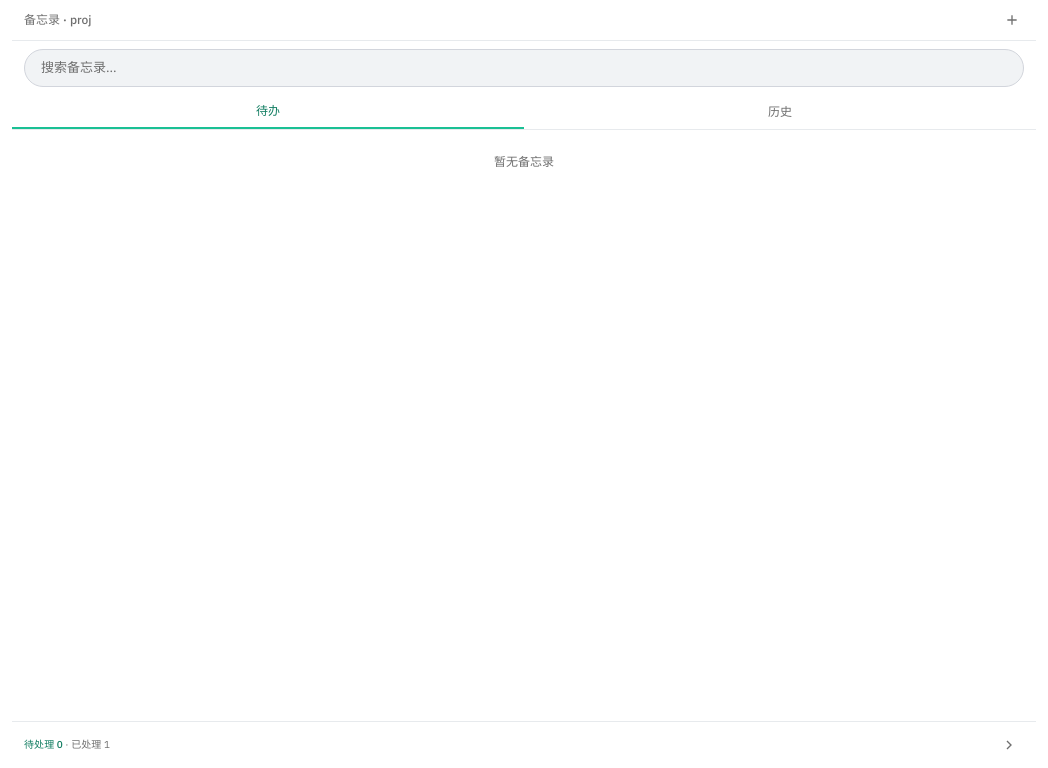
Scenario: MemoPanel · 历史分组与折叠 › 展开分组后条目可见，再点折叠后隐藏
The image size is (1048, 768).
Step 1. Click the button "历史" → (780, 112), box [524,94,1036,128]
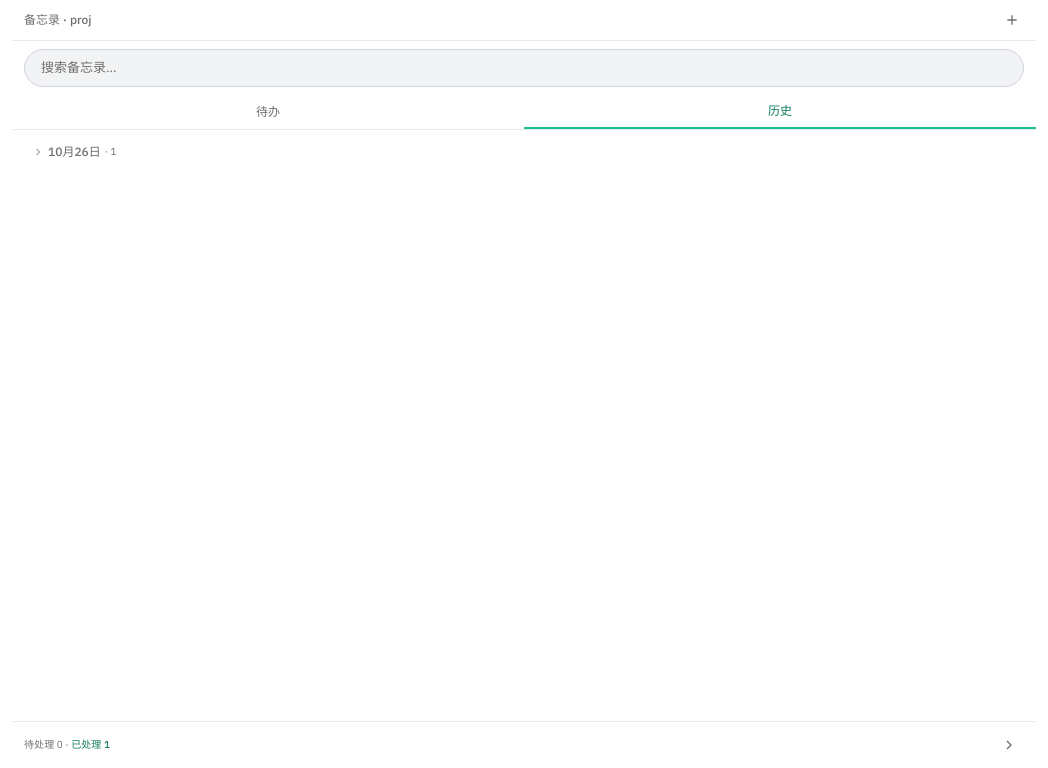
Check: the text "历史项P" is not shown
Step 2. Click the button named "展开 " → (74, 151), box [28,138,1020,166]
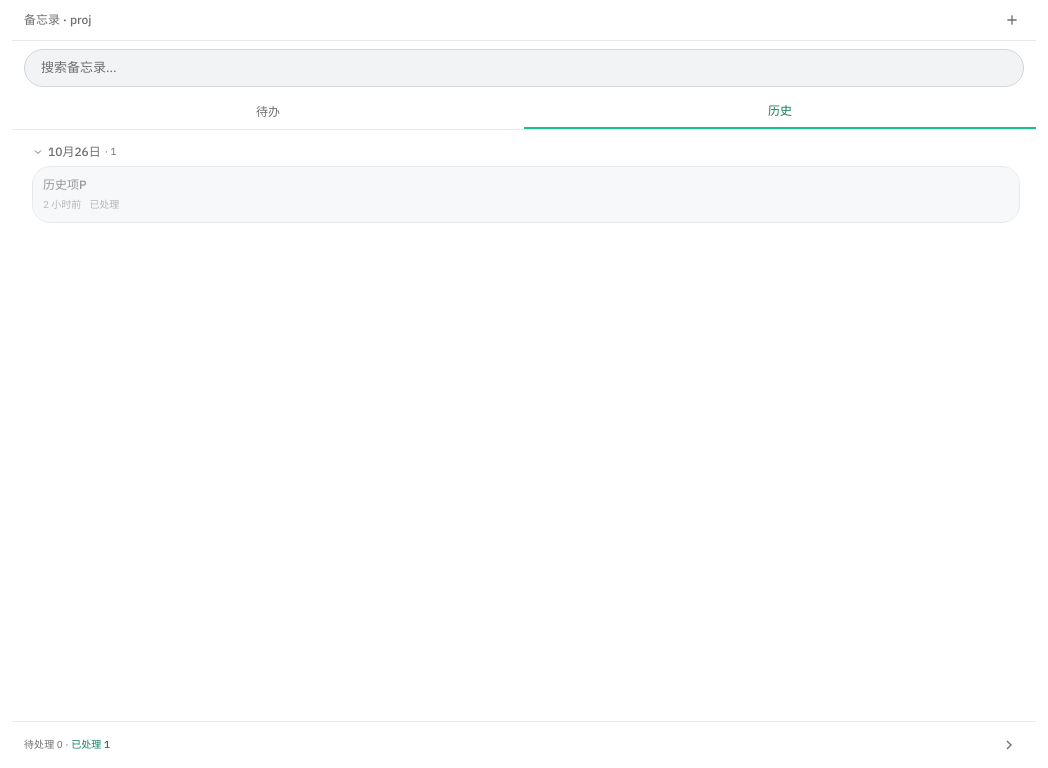
Check: the text "历史项P" is shown, box [43,176,86,192]
Step 3. Click the button named "折叠 " → (74, 151), box [28,138,1020,166]
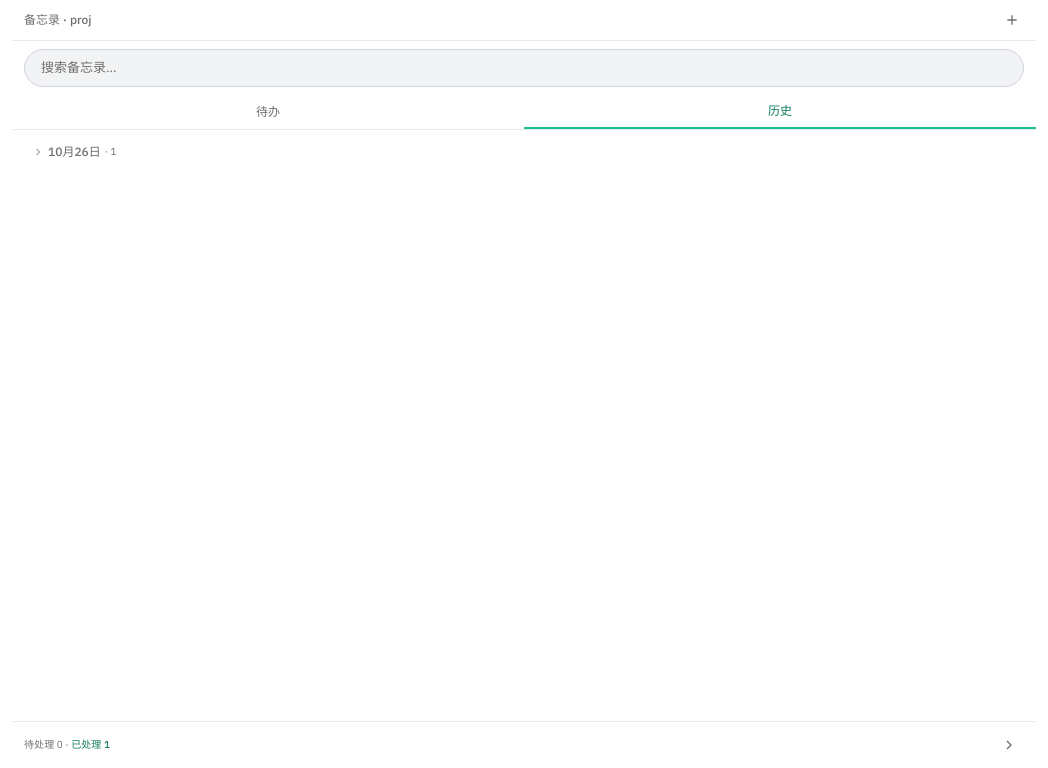
Check: the text "历史项P" is gone
